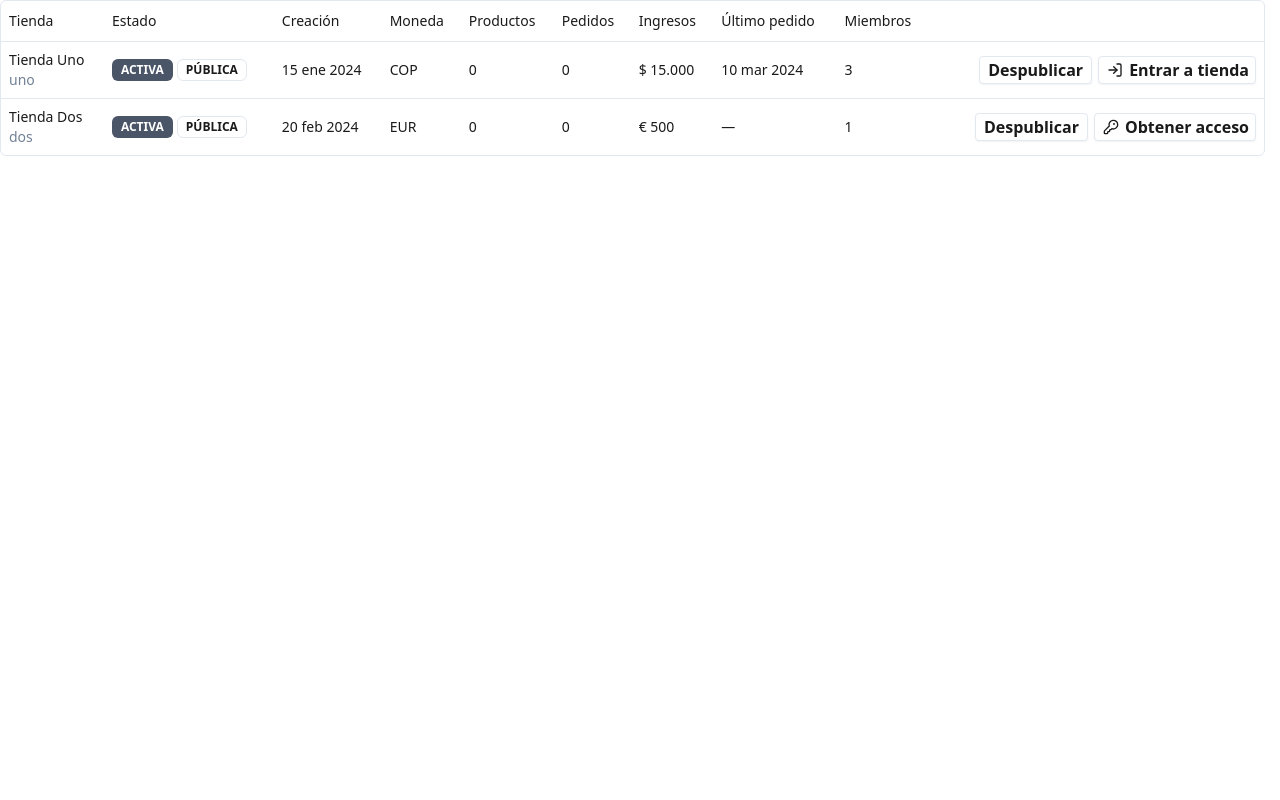
Test: TenantsTable membership flip (D3) › warns that the membership will be visible to the store team before granting anything
Step 1. Click the button "Obtener acceso" → (1175, 126), box [1094,112,1256,140]
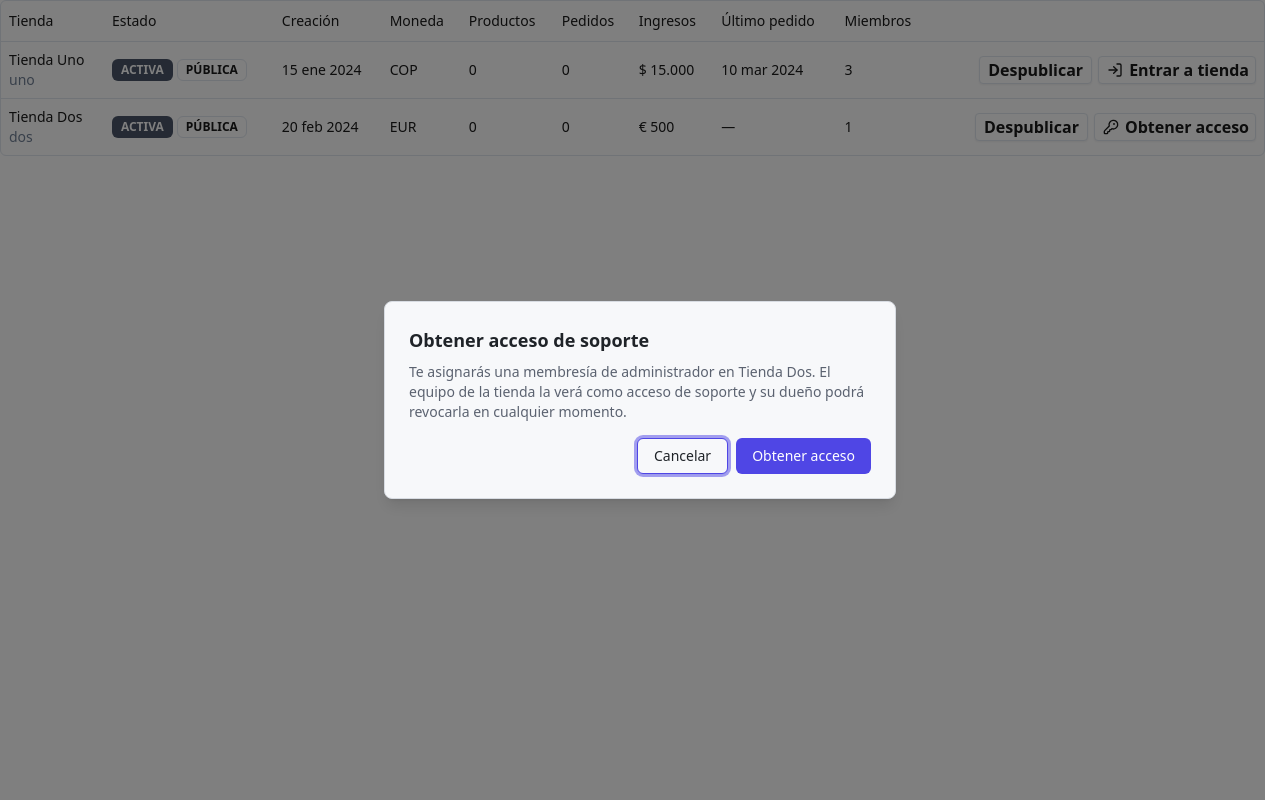
Check: the text "podrá revocarla" is shown, box [409,362,864,421]
